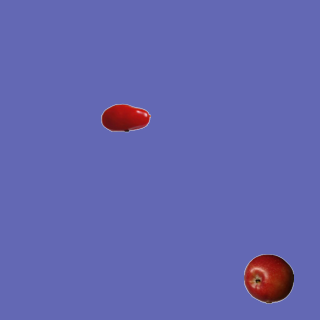Apple Braeburn: (243, 253, 293, 303)
Tomato 2: (100, 92, 150, 142)
